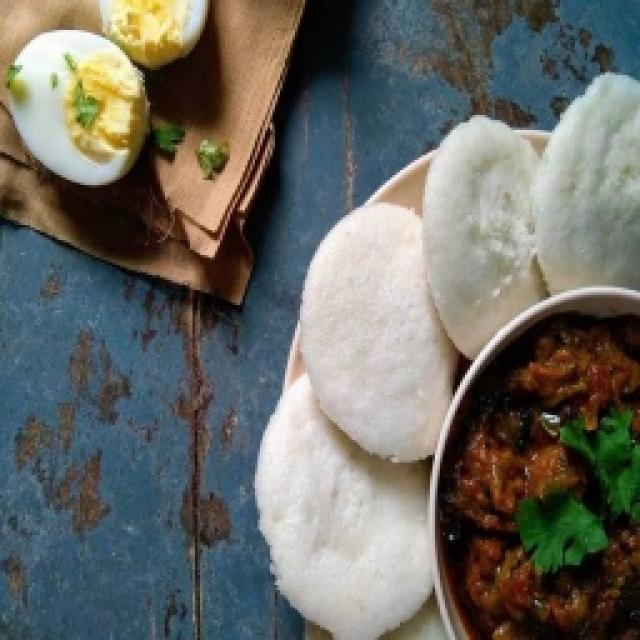idli: (255, 375, 432, 639), (300, 203, 457, 462), (423, 115, 544, 359), (533, 73, 639, 292), (380, 595, 447, 639)
